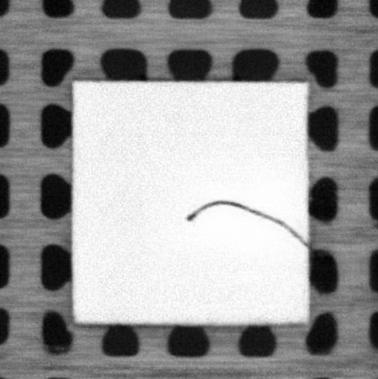DIE_INK: (185, 198, 304, 245)
